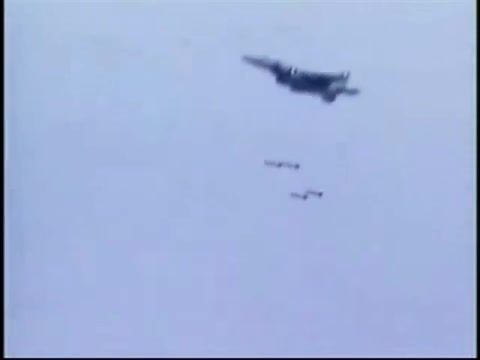aeroplane: (242, 56, 362, 106)
